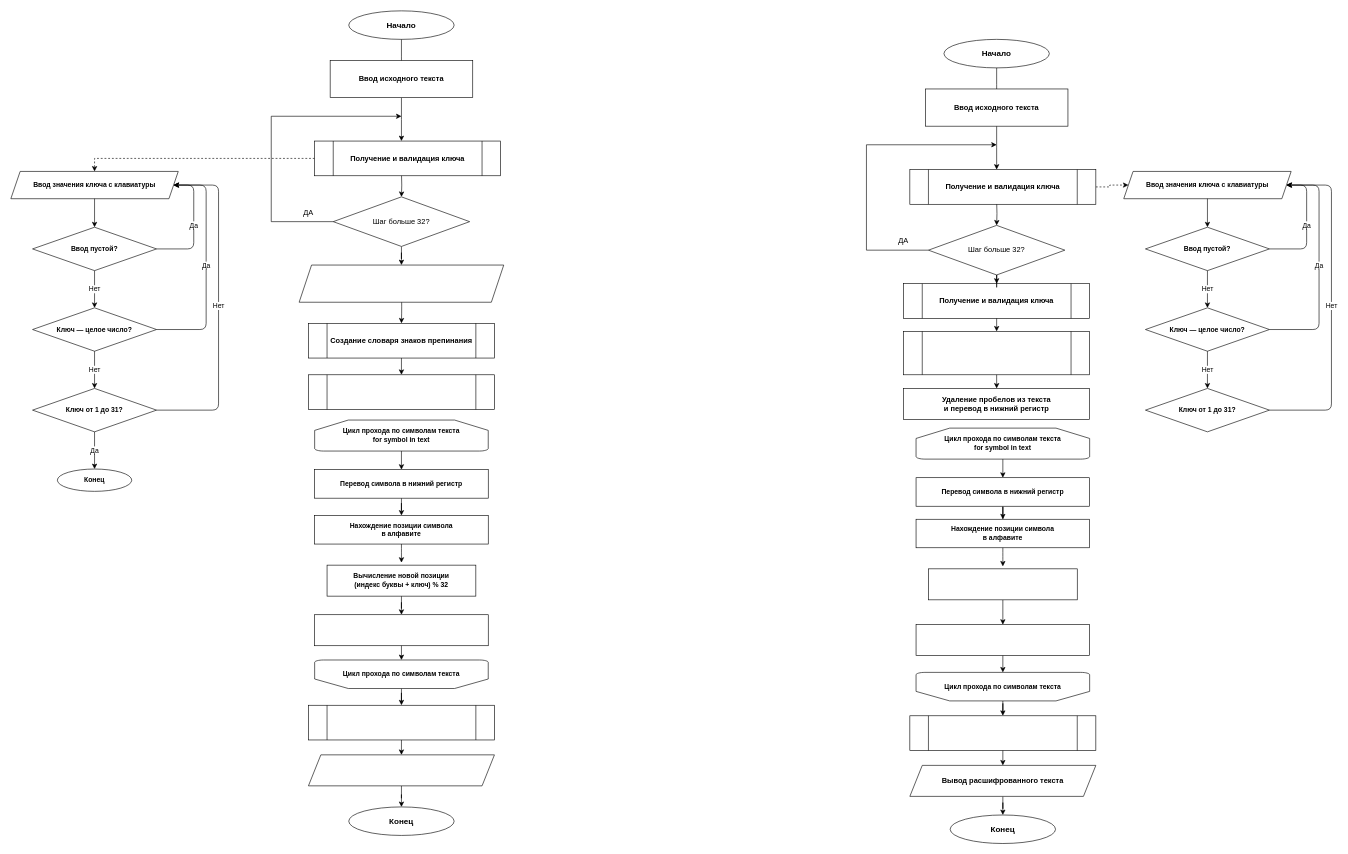
The diagram is 1348 pixels wide and 854 high, and some of its shapes have lost their labels. Here are the shapes that lost their labels. From the top down, the centre of each, then its label:
At point 401,283: "Ввод действия шифрование".
At point 996,353: "Создание обратного словаря кодов".
At point 401,392: "Подготовка текста к шифрованию".
At point 1002,584: "Вычисление новой позиции (индекс буквы − ключ + 32) % 32".
At point 401,630: "Запись буквы алфавита по позиции в результирующую строку".
At point 1002,640: "Запись буквы алфавита по позиции new_pos в результирующую строку".
At point 401,722: "Разбивка на группы по 5 символов".
At point 1002,733: "Восстановление знаков препинания из кодов".
At point 401,770: "Вывод зашифрованного текста".
